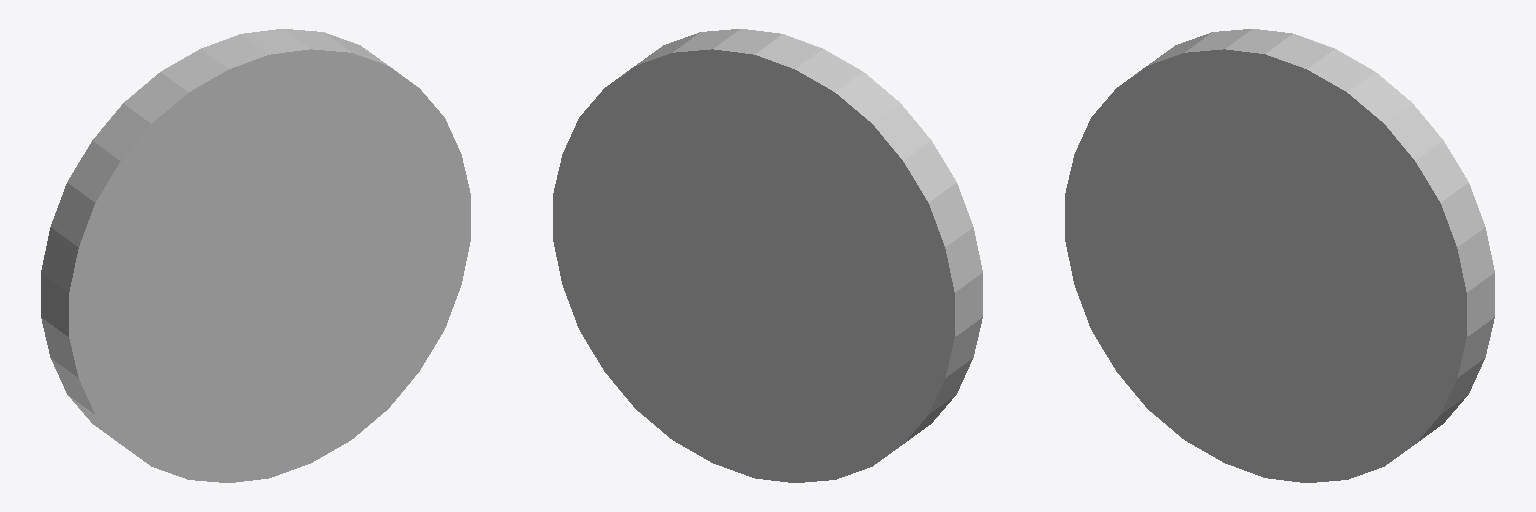
The model's file is yellowCoin.obj.
3 views of the same model, side by side, from view 1: azimuth 30°, elevation 25°; view 2: azimuth 150°, elevation 25°; view 3: azimuth 330°, elevation 25° (orthographic).
Visible parts, largest first — view 1: Mesh_0121; view 2: Mesh_0121; view 3: Mesh_0121.
Boxes of the visible parts, x1,y1,x2,y2 form: Mesh_0121: [41, 29, 470, 482]; Mesh_0121: [553, 29, 982, 482]; Mesh_0121: [1065, 29, 1494, 482].
Size of the model in its own units: 0.1984 by 0.2 by 0.0242.